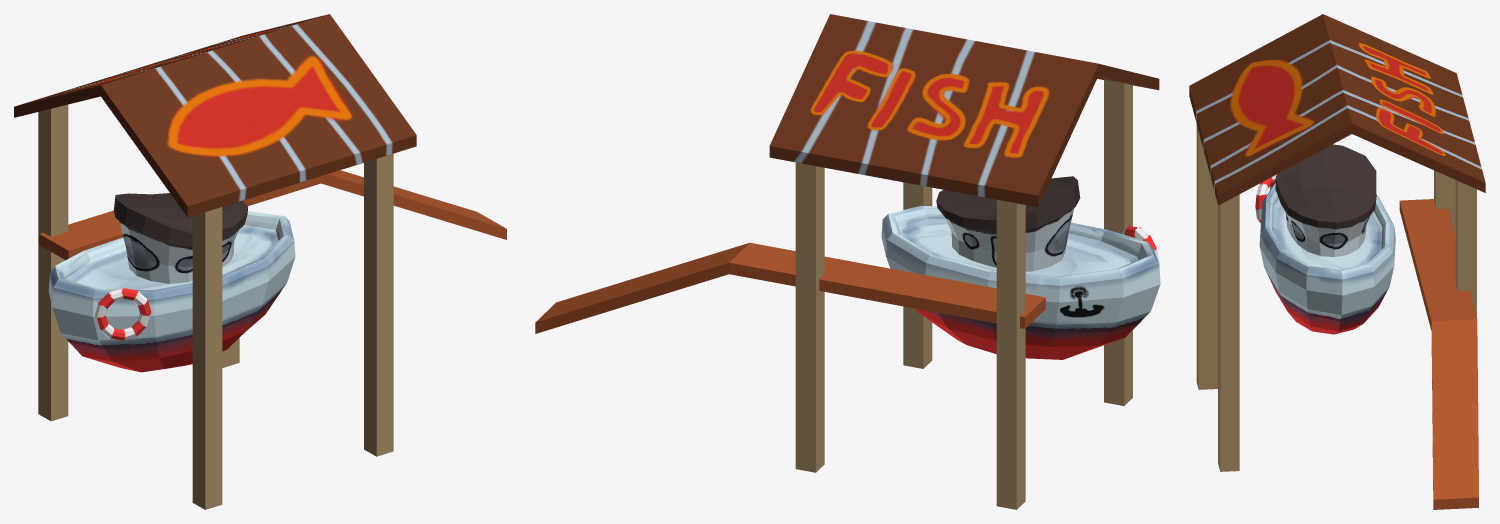
File: Docks.gltf
The picture shows the model from 3 angles, left to right: view 1: azimuth 30°, elevation 25°; view 2: azimuth 150°, elevation 25°; view 3: azimuth 270°, elevation 25°; orthographic projection. The views are drawn at different scales.
Visible parts, largest first — view 1: Docks; view 2: Docks; view 3: Docks.
Part boxes in pixels (x1,y1,x2,y2): Docks: (14,14,506,509); Docks: (535,14,1160,509); Docks: (1189,14,1485,509).
Bounding box in the file's own units: 6.73 × 4.73 × 3.61.
Materials: 1 (1 with a texture image).
